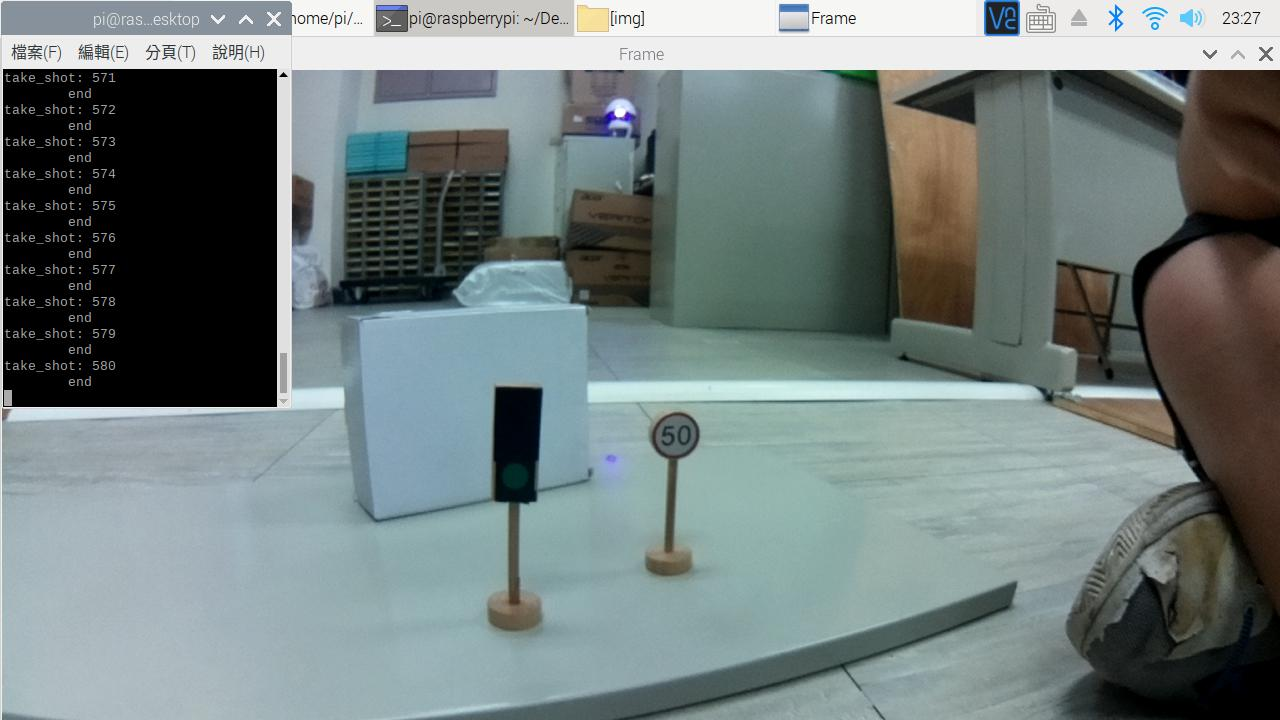Green: (481, 379, 556, 511)
Speed50: (643, 403, 721, 472)
